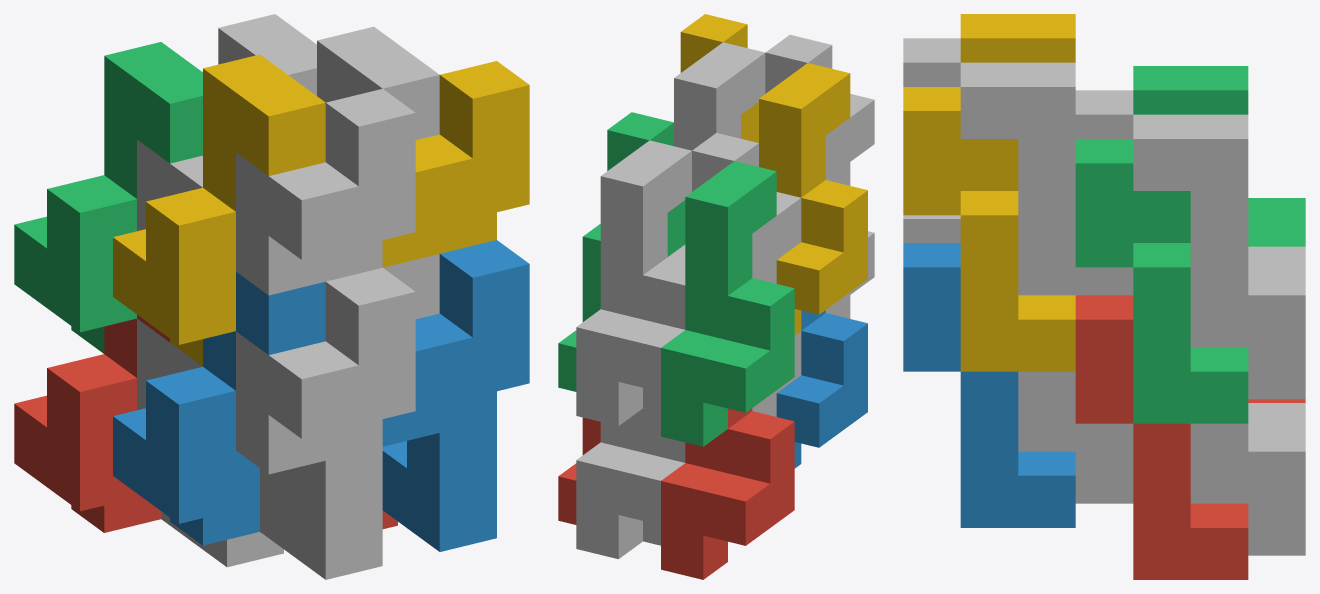
File: tiling.obj
3 renders of one model, left to right at view 1: azimuth 30°, elevation 25°; view 2: azimuth 150°, elevation 25°; view 3: azimuth 270°, elevation 25°, orthographic. The views are drawn at different scales.
Visible parts, largest first — view 1: copy_2_domain_2, copy_2_domain_6, copy_1_domain_4, copy_2_domain_4, copy_1_domain_3, copy_1_domain_2, copy_2_domain_8, copy_1_domain_1, copy_1_domain_8, copy_1_domain_7, copy_2_domain_1, copy_2_domain_3 (+1 smaller); view 2: copy_1_domain_3, copy_1_domain_7, copy_1_domain_4, copy_1_domain_1, copy_1_domain_5, copy_1_domain_2, copy_1_domain_8, copy_2_domain_7, copy_2_domain_3, copy_2_domain_4, copy_2_domain_8, copy_2_domain_5 (+2 smaller); view 3: copy_2_domain_8, copy_2_domain_7, copy_1_domain_7, copy_2_domain_5, copy_2_domain_6, copy_1_domain_8, copy_1_domain_5, copy_1_domain_6, copy_1_domain_3, copy_1_domain_4, copy_2_domain_2, copy_2_domain_3 (+2 smaller).
Part boxes in pixels (left/top/right/bottom): copy_2_domain_2: left=236, top=267, right=415, bottom=579; copy_2_domain_6: left=382, top=240, right=529, bottom=551; copy_1_domain_4: left=113, top=54, right=325, bottom=366; copy_2_domain_4: left=236, top=88, right=415, bottom=295; copy_1_domain_3: left=14, top=42, right=202, bottom=353; copy_1_domain_2: left=113, top=272, right=325, bottom=545; copy_2_domain_8: left=382, top=61, right=529, bottom=267; copy_1_domain_1: left=14, top=314, right=169, bottom=532; copy_1_domain_8: left=317, top=26, right=439, bottom=140; copy_1_domain_7: left=218, top=14, right=316, bottom=95; copy_2_domain_1: left=137, top=318, right=283, bottom=567; copy_2_domain_3: left=137, top=139, right=202, bottom=231; copy_1_domain_3: left=661, top=161, right=794, bottom=446; copy_1_domain_7: left=576, top=140, right=691, bottom=425; copy_1_domain_4: left=759, top=63, right=867, bottom=335; copy_1_domain_1: left=661, top=408, right=794, bottom=579; copy_1_domain_5: left=576, top=408, right=685, bottom=559; copy_1_domain_2: left=776, top=310, right=867, bottom=468; copy_1_domain_8: left=674, top=42, right=765, bottom=150; copy_2_domain_7: left=558, top=112, right=685, bottom=391; copy_2_domain_3: left=643, top=133, right=801, bottom=412; copy_2_domain_4: left=765, top=34, right=874, bottom=185; copy_2_domain_8: left=680, top=14, right=758, bottom=142; copy_2_domain_5: left=558, top=417, right=600, bottom=524; copy_2_domain_8: left=903, top=87, right=1075, bottom=371; copy_2_domain_7: left=1075, top=139, right=1248, bottom=423; copy_1_domain_7: left=1133, top=114, right=1305, bottom=399; copy_2_domain_5: left=1075, top=295, right=1248, bottom=579; copy_2_domain_6: left=903, top=243, right=1075, bottom=527; copy_1_domain_8: left=960, top=62, right=1133, bottom=295; copy_1_domain_5: left=1190, top=295, right=1305, bottom=555; copy_1_domain_6: left=1018, top=243, right=1133, bottom=503; copy_1_domain_3: left=1133, top=66, right=1305, bottom=246; copy_1_domain_4: left=960, top=14, right=1075, bottom=62; copy_2_domain_2: left=903, top=215, right=1075, bottom=451; copy_2_domain_3: left=1075, top=90, right=1133, bottom=138.
Size of the model in its own units: 5 by 9 by 7.
